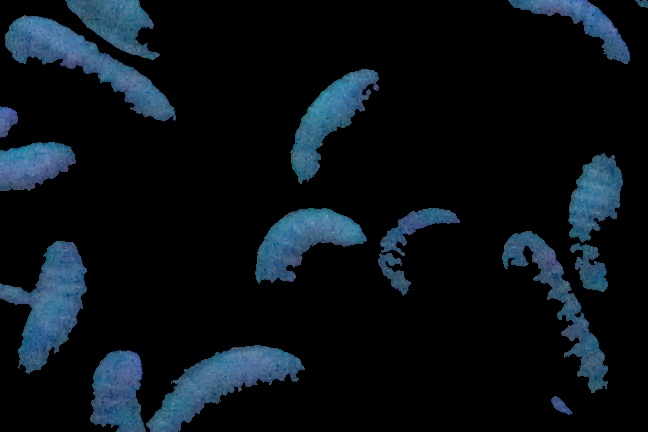larvae: (8, 20, 203, 144), (501, 225, 609, 390), (555, 142, 639, 315), (260, 201, 370, 332), (156, 343, 309, 432), (12, 236, 101, 384), (499, 1, 634, 86), (296, 65, 382, 189), (380, 207, 464, 317), (26, 1, 174, 55), (89, 349, 145, 432), (1, 144, 78, 204), (82, 1, 220, 9)
